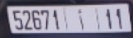1: (116, 6, 123, 30), (106, 7, 112, 30), (53, 8, 59, 30)
2: (22, 9, 31, 30)
5: (11, 9, 23, 30)
6: (31, 10, 41, 30)
7: (40, 8, 51, 30)
a: (77, 8, 86, 30)
